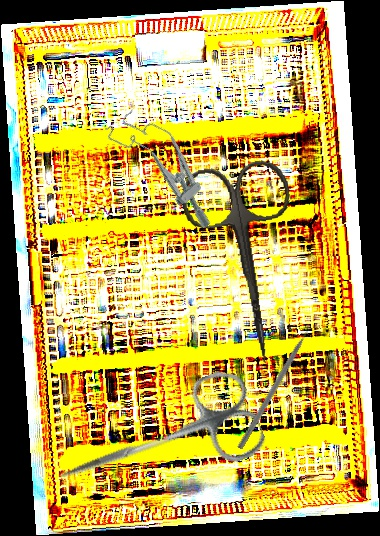Chopper: (236, 322, 322, 454)
Iris Scissors: (45, 364, 270, 523), (177, 156, 317, 373)
Speculum: (101, 97, 234, 237)
